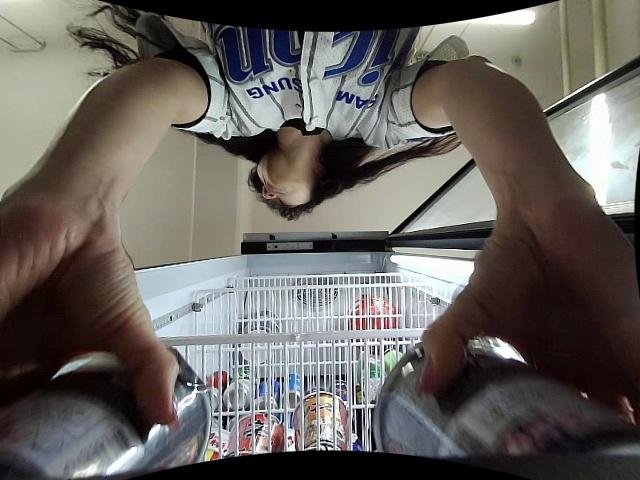00_hand: (411, 219, 640, 427), (0, 189, 183, 430)
08_buldak_S: (373, 337, 640, 460), (0, 331, 212, 480)
